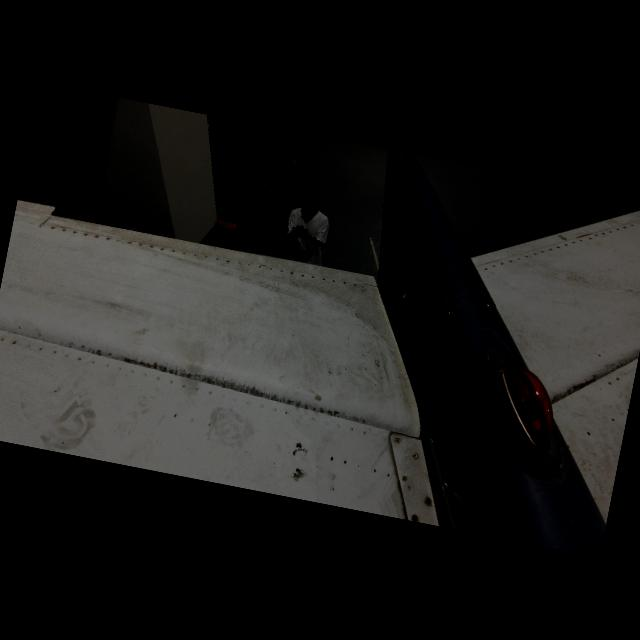Missing Fastener: (447, 308, 458, 318), (429, 306, 438, 318), (477, 288, 486, 296), (482, 301, 490, 308), (443, 298, 451, 304)
